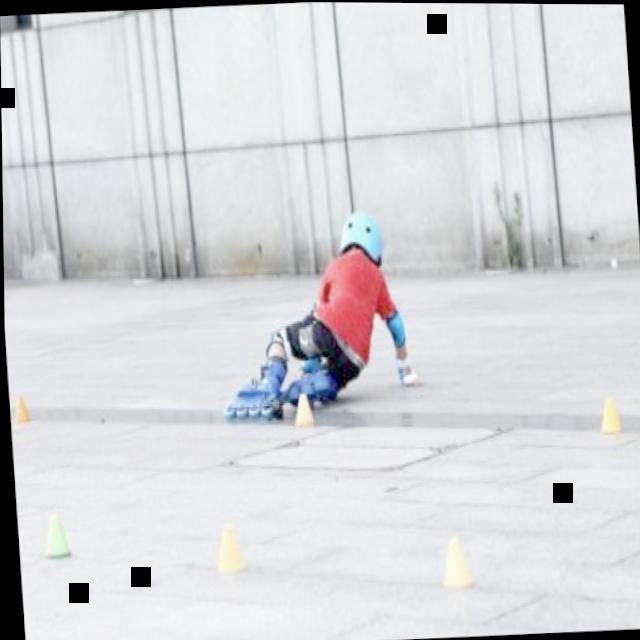Fall-Detected: (210, 195, 428, 429)
